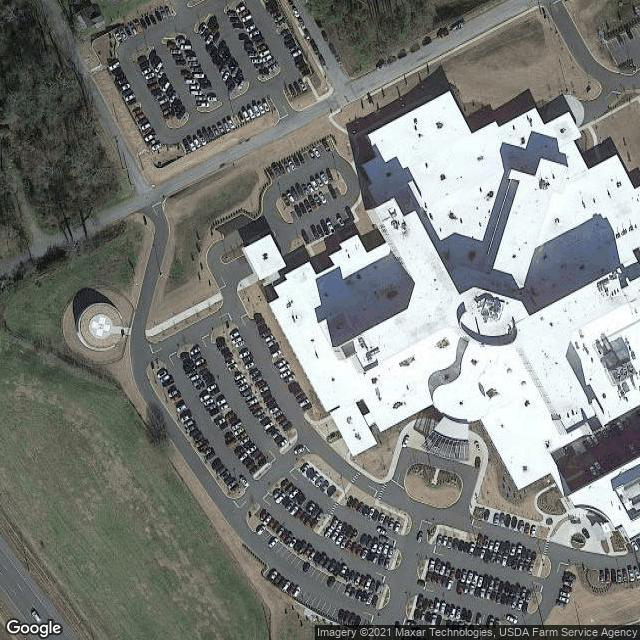Helipad: (84, 312, 117, 340)
